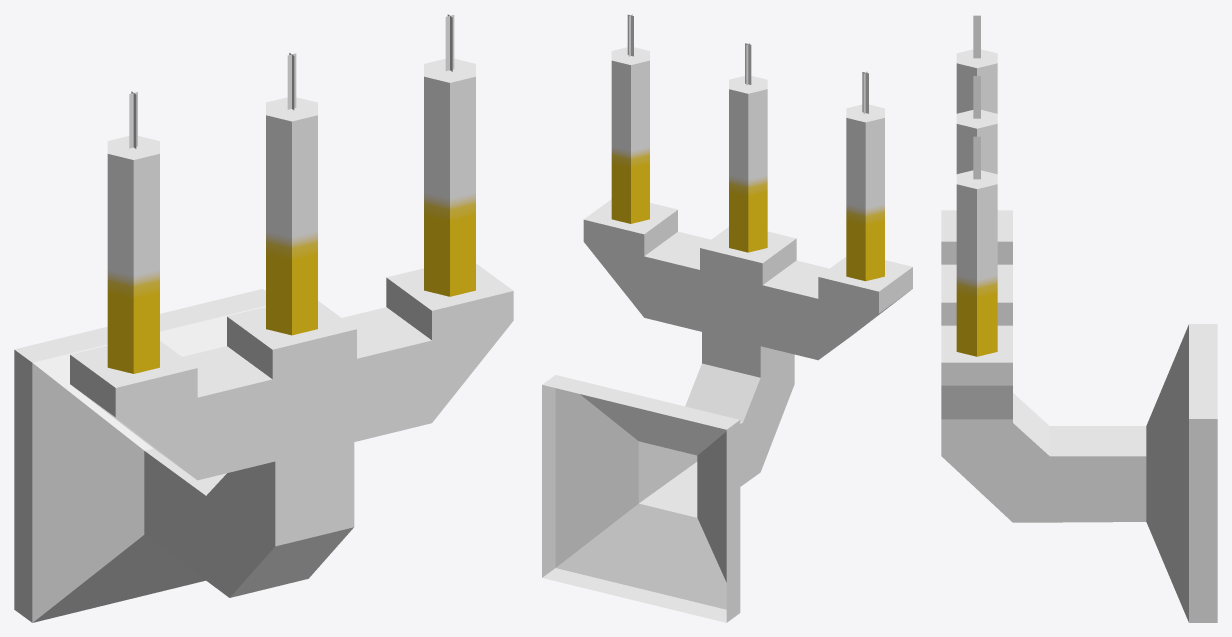
File: candleTriple_Wall.fbx
3 renders of one model, left to right at view 1: azimuth 30°, elevation 25°; view 2: azimuth 150°, elevation 25°; view 3: azimuth 270°, elevation 25°, orthographic. The views are drawn at different scales.
Visible parts, largest first — view 1: candleTriple_Wall; view 2: candleTriple_Wall; view 3: candleTriple_Wall.
Boxes of the visible parts, box(x1,y1,x2,y2) form: candleTriple_Wall: box(14, 14, 513, 622); candleTriple_Wall: box(542, 14, 912, 622); candleTriple_Wall: box(941, 15, 1217, 622).
Bounding box in the file's own units: 50.34 × 77.01 × 38.61.
